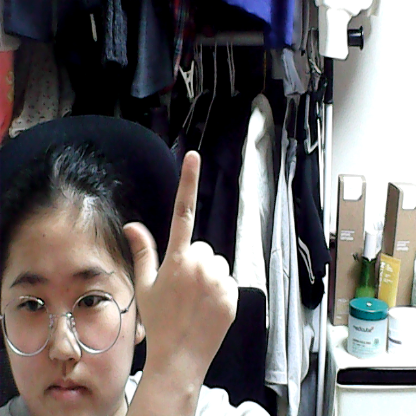Finger_2: (118, 136, 270, 375)
